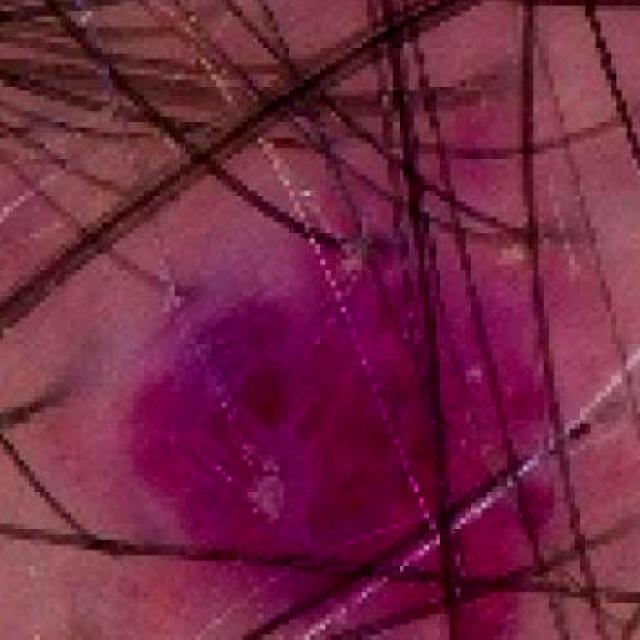VASC: (76, 113, 640, 640)
